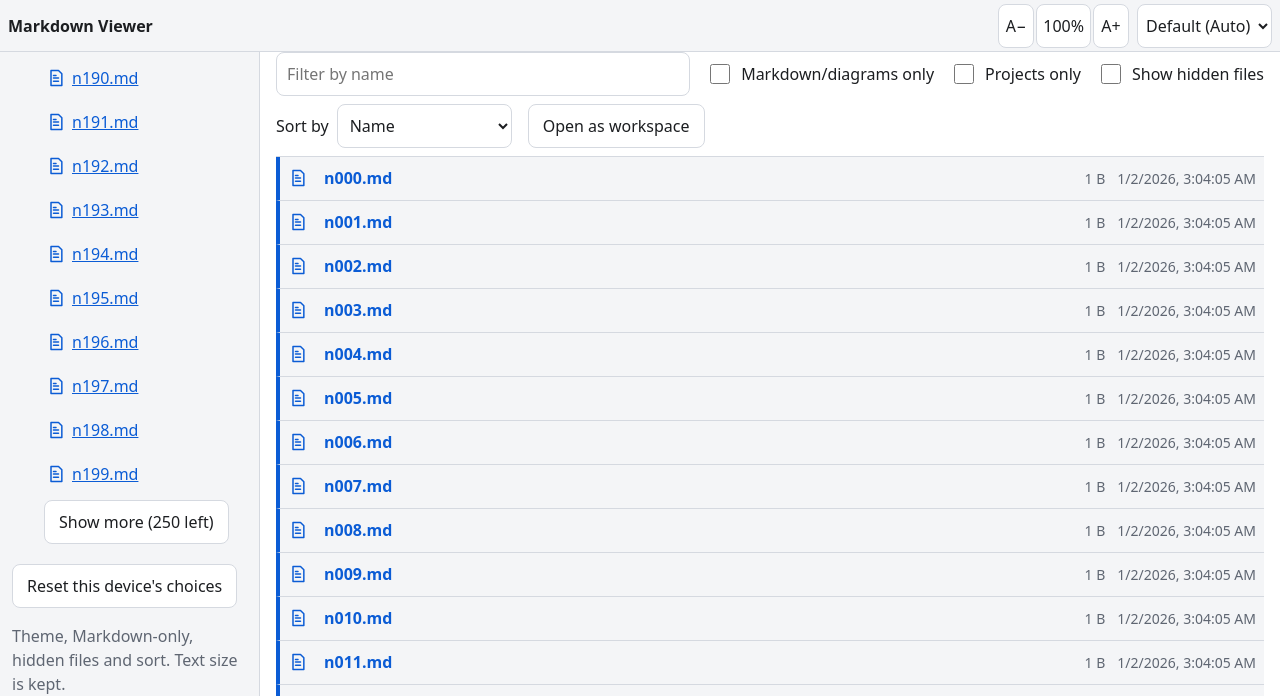
it: WorkspaceTree › shows the first page of a long folder
The width and height of the screenshot is (1280, 696).
(page scrolled)
Expected: the link "n199.md" is shown, [46,463,138,485]
Click the button "Show more (250 left)": (136,522) [44,500,229,544]
(page scrolled)
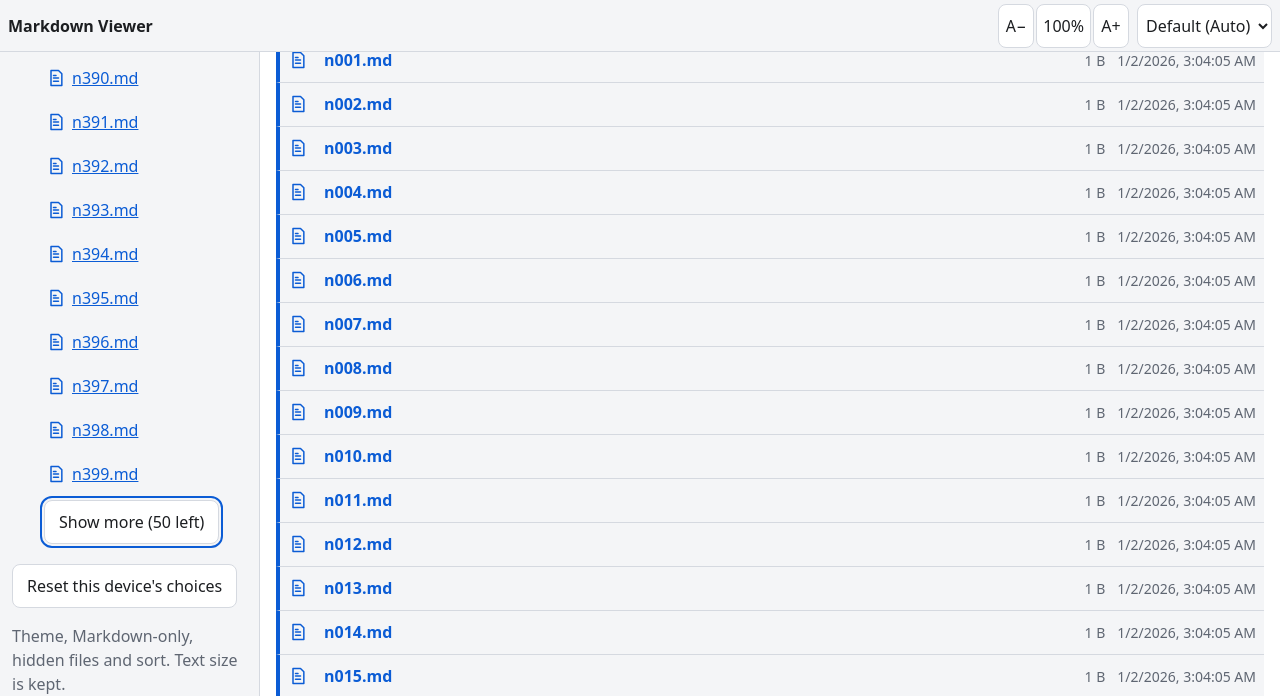
Result: the link "n399.md" is shown at [46,463,138,485]
Result: the button "Show more (50 left)" is shown at [44,500,219,544]
